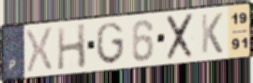6: (131, 17, 155, 63)
G: (94, 20, 126, 66)
H: (56, 22, 88, 72)
K: (200, 12, 225, 55)
X: (165, 11, 195, 62), (25, 25, 55, 75)
